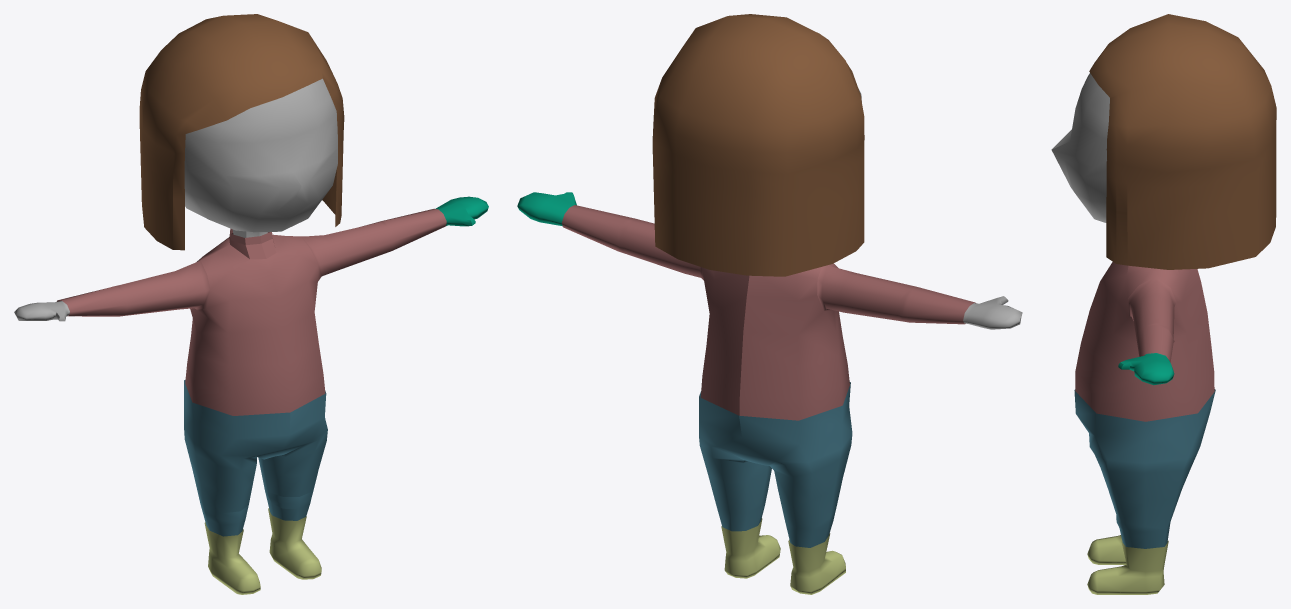
File: f-side bang straight hair.fbx
The picture shows the model from 3 angles, left to right: view 1: azimuth 30°, elevation 25°; view 2: azimuth 150°, elevation 25°; view 3: azimuth 270°, elevation 25°; orthographic projection. The views are drawn at different scales.
Visible parts, largest first — view 1: swordsman_shirt, hair_base, polySurface12, swordsman_pants, L_swordsman_boots, R_swordsman_boots, L_swordsman_glove; view 2: hair_base, swordsman_shirt, swordsman_pants, L_swordsman_boots, R_swordsman_boots, polySurface12, L_swordsman_glove; view 3: hair_base, swordsman_shirt, swordsman_pants, polySurface12, L_swordsman_boots, L_swordsman_glove, R_swordsman_boots.
Boxes of the visible parts, box(x1,y1,x2,y2) form: swordsman_shirt: box(56, 208, 446, 415); hair_base: box(139, 14, 344, 250); polySurface12: box(14, 78, 337, 321); swordsman_pants: box(184, 379, 327, 536); L_swordsman_boots: box(268, 508, 321, 579); R_swordsman_boots: box(204, 522, 260, 594); L_swordsman_glove: box(435, 196, 488, 226); hair_base: box(652, 14, 864, 276); swordsman_shirt: box(562, 205, 975, 420); swordsman_pants: box(699, 382, 852, 547); L_swordsman_boots: box(721, 518, 780, 578); R_swordsman_boots: box(788, 533, 845, 594); polySurface12: box(858, 89, 1022, 329); L_swordsman_glove: box(517, 192, 576, 225); hair_base: box(1089, 14, 1276, 269); swordsman_shirt: box(1075, 262, 1214, 421); swordsman_pants: box(1074, 389, 1215, 548); polySurface12: box(1051, 73, 1109, 222); L_swordsman_boots: box(1087, 540, 1168, 594); L_swordsman_glove: box(1118, 353, 1174, 385); R_swordsman_boots: box(1087, 535, 1126, 564).
Size of the model in its own units: 1.17 by 1.27 by 0.4719.
